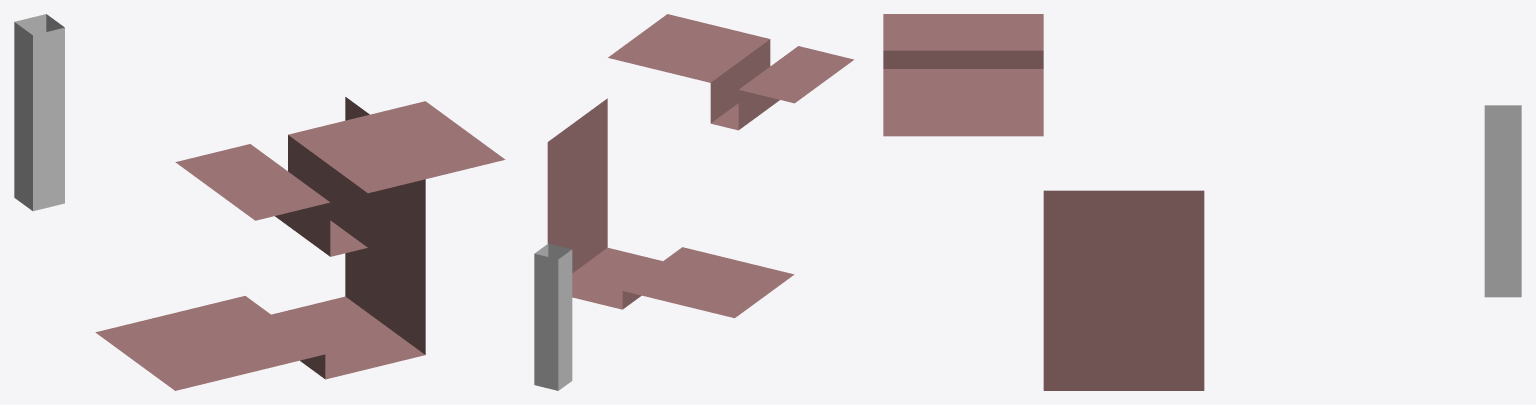
The model's file is StationNew.fbx.
3 views of the same model, side by side, from view 1: azimuth 30°, elevation 25°; view 2: azimuth 150°, elevation 25°; view 3: azimuth 270°, elevation 25° (orthographic). The views are drawn at different scales.
Parts seen in each view (by area): view 1: StationCeiling, StationPlatform, StationWall, Colon16, StationRR; view 2: StationCeiling, StationWall, StationPlatform, Colon16, StationRR; view 3: StationWall, StationCeiling, Colon16.
Boxes of the visible parts, <box> form: StationCeiling: <box>175,101,505,256</box>; StationPlatform: <box>95,296,325,390</box>; StationWall: <box>345,97,425,354</box>; Colon16: <box>14,14,64,211</box>; StationRR: <box>271,296,424,379</box>; StationCeiling: <box>608,14,853,130</box>; StationWall: <box>547,98,607,272</box>; StationPlatform: <box>622,247,794,318</box>; Colon16: <box>534,243,572,390</box>; StationRR: <box>572,247,662,309</box>; StationWall: <box>1043,190,1204,390</box>; StationCeiling: <box>883,14,1043,136</box>; Colon16: <box>1484,105,1521,297</box>.
Bounding box in the file's own units: 0.6887 × 0.6679 × 1.52.
